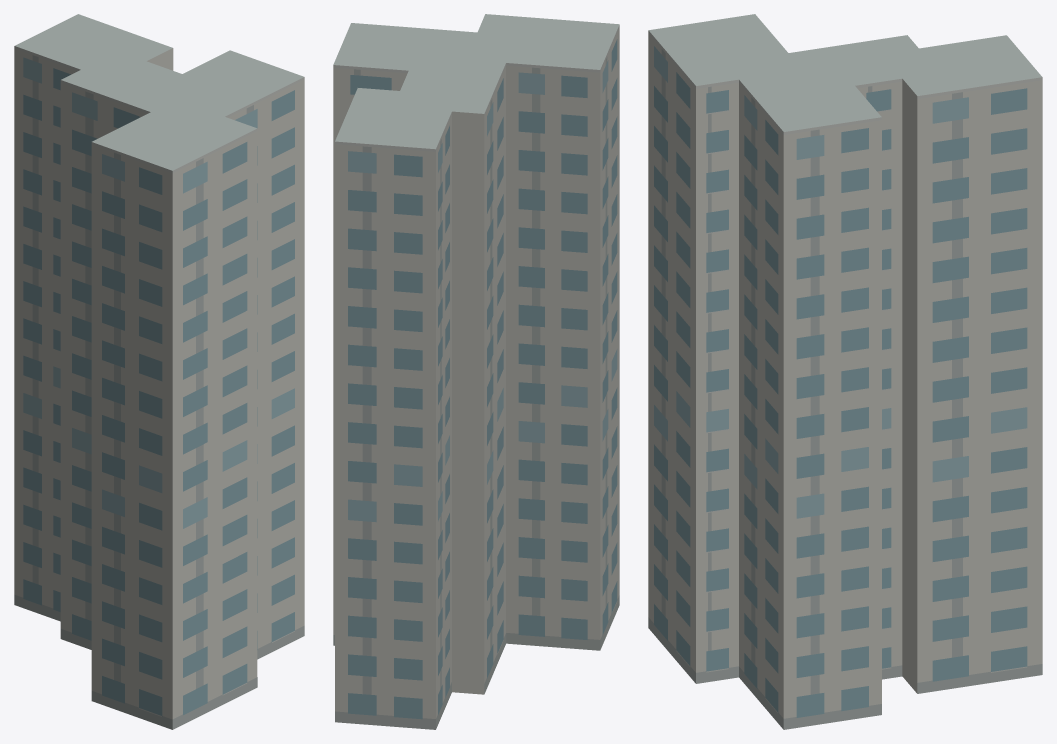
The model's file is residential-d6953f5c-511c-4730-a300-9627e96fcd21.glb.
3 views of the same model, side by side, from view 1: azimuth 30°, elevation 25°; view 2: azimuth 150°, elevation 25°; view 3: azimuth 270°, elevation 25° (orthographic). The views are drawn at different scales.
Parts seen in each view (by area): view 1: residential-d6953f5c-511c-4730-a300-9627e96fcd21.tmp; view 2: residential-d6953f5c-511c-4730-a300-9627e96fcd21.tmp; view 3: residential-d6953f5c-511c-4730-a300-9627e96fcd21.tmp.
Part boxes in pixels (x1,y1,x2,y2): residential-d6953f5c-511c-4730-a300-9627e96fcd21.tmp: (14,14,304,729); residential-d6953f5c-511c-4730-a300-9627e96fcd21.tmp: (333,14,619,729); residential-d6953f5c-511c-4730-a300-9627e96fcd21.tmp: (648,14,1042,729).
Bounding box in the file's own units: 21.62 × 51 × 30.48.
